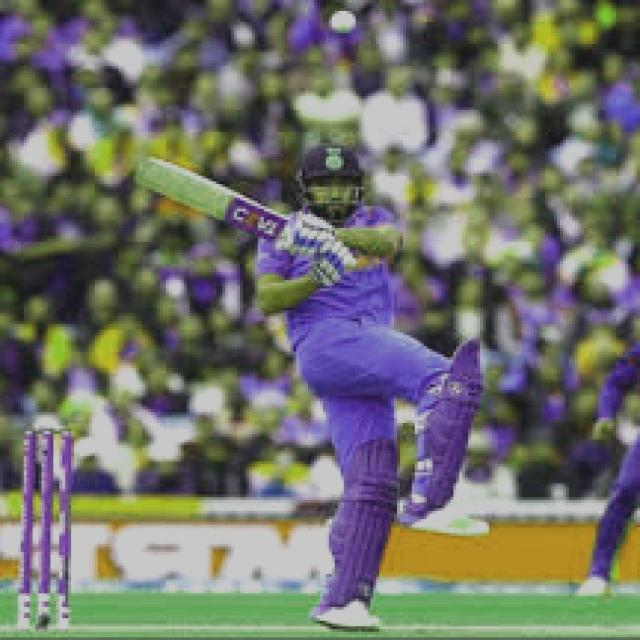toe: (129, 144, 170, 198)
